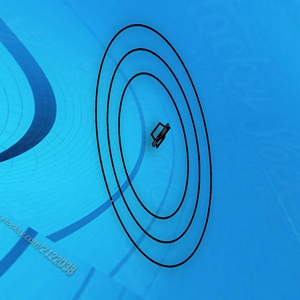circle: (94, 23, 213, 265)
submarine: (150, 122, 169, 147)
